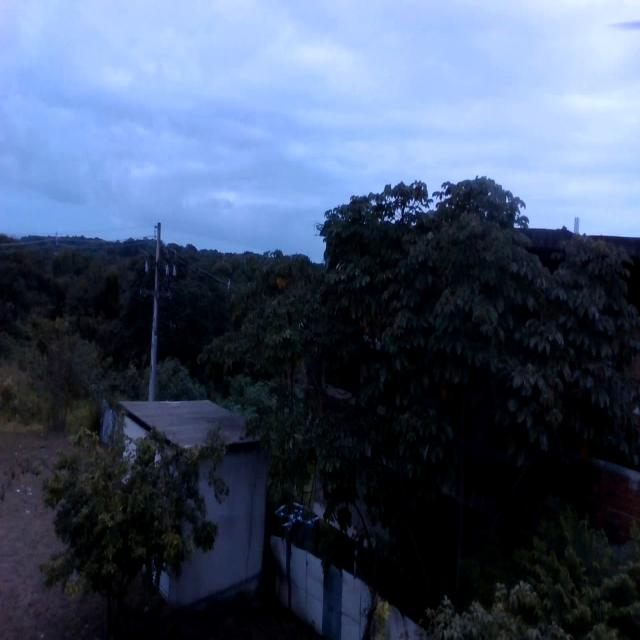-uav-: (266, 493, 340, 572)
